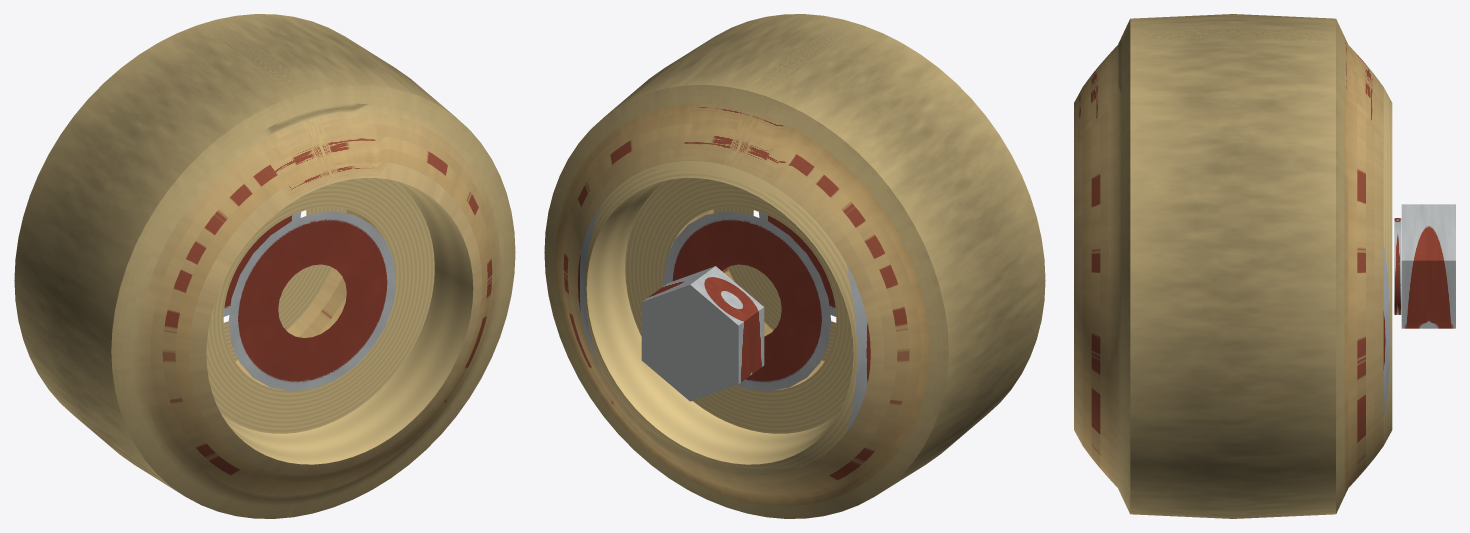
The model's file is sk8_wheel_park_54c_yellowed.glb.
3 renders of one model, left to right at view 1: azimuth 30°, elevation 25°; view 2: azimuth 150°, elevation 25°; view 3: azimuth 270°, elevation 25°, orthographic. The views are drawn at different scales.
Visible parts, largest first — view 1: SM_Wheel_park_54c; view 2: SM_Wheel_park_54c; view 3: SM_Wheel_park_54c.
Part boxes in pixels (x1,y1,x2,y2): SM_Wheel_park_54c: (14,14,515,518); SM_Wheel_park_54c: (544,14,1045,518); SM_Wheel_park_54c: (1074,14,1455,518).
Size of what is drawn, in the model's own units: 0.054 by 0.054 by 0.0408.
1 material, 1 textured.
